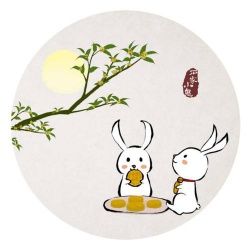ImgView: (1, 1, 249, 249)
